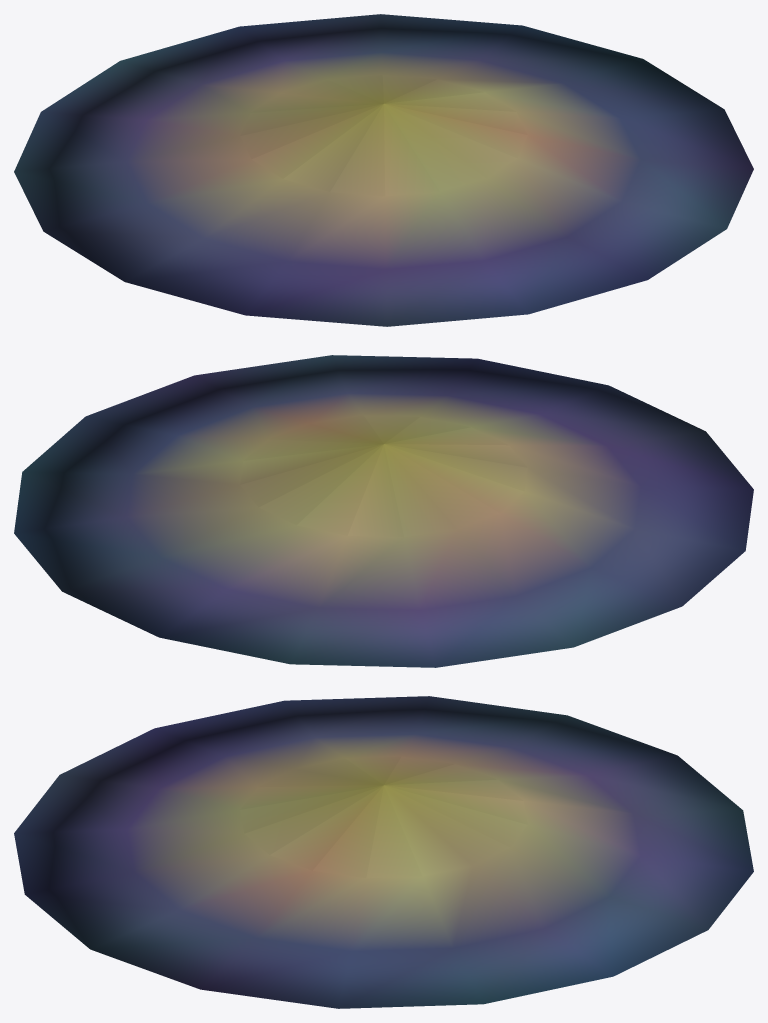
The model's file is space-galaxies-galaxy_v1.glb.
3 renders of one model, top to bottom at view 1: azimuth 30°, elevation 25°; view 2: azimuth 150°, elevation 25°; view 3: azimuth 270°, elevation 25°, orthographic.
Visible parts, largest first — view 1: Galaxy_v1; view 2: Galaxy_v1; view 3: Galaxy_v1.
Part boxes in pixels (left/top/right/bottom): Galaxy_v1: left=14, top=14, right=753, bottom=326; Galaxy_v1: left=14, top=355, right=753, bottom=667; Galaxy_v1: left=14, top=696, right=753, bottom=1008.
Size of the model in its own units: 0.5 by 0.091 by 0.5.
